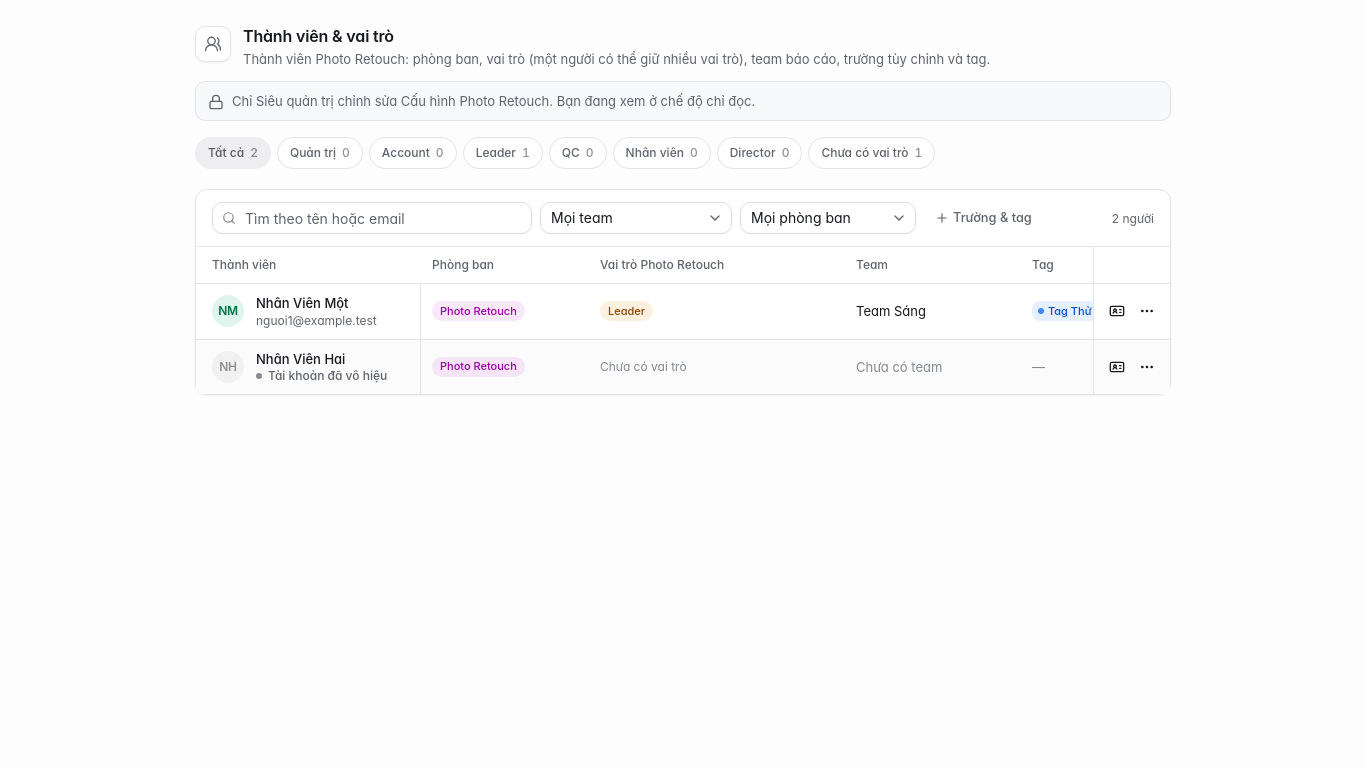
Cấu hình → Thành viên & vai trò (PD-050) › opens the Photo Retouch profile read-only for everyone but the superadmin
Click the button named "Hồ sơ Photo Retouch của Nhân Viên Một" at (1117, 311), box [1103, 297, 1131, 325]
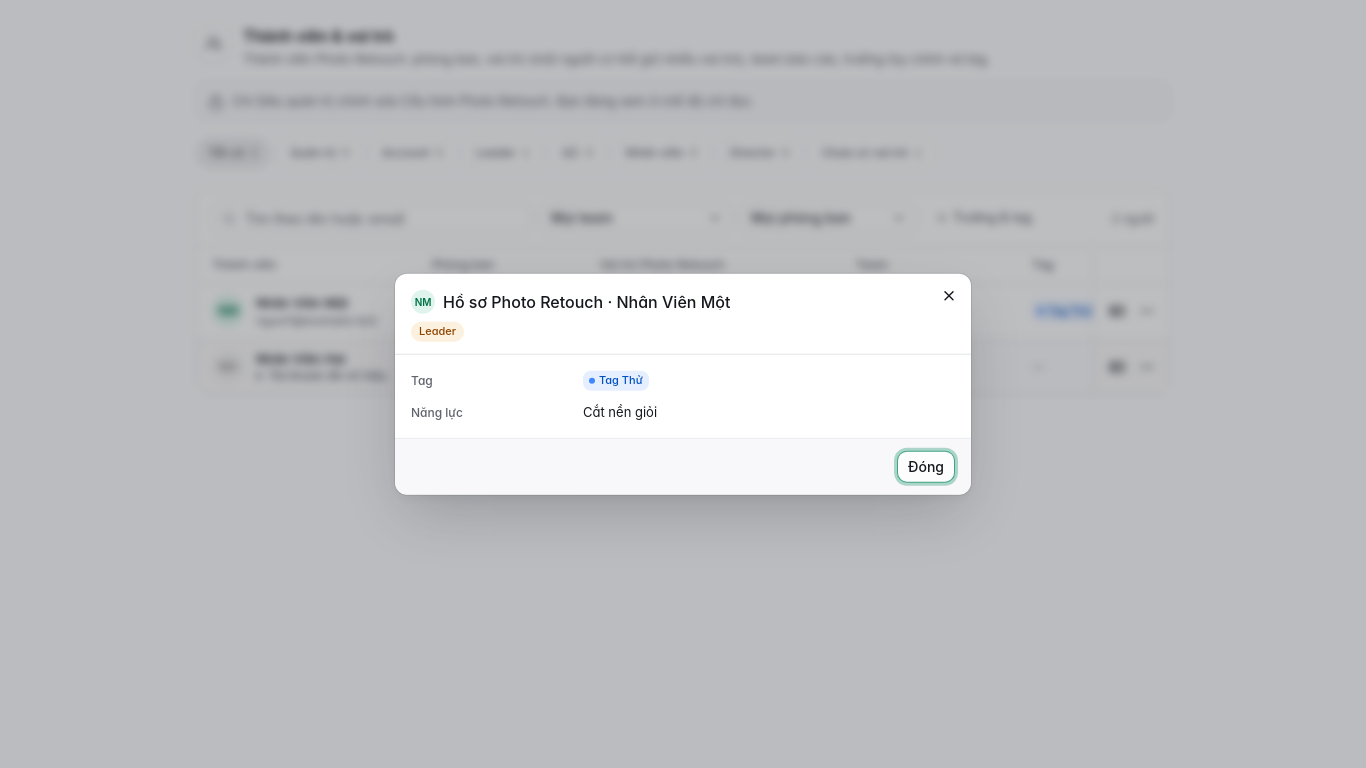
Expected: the text "Năng lực" is shown, [411, 405, 463, 420]
Expected: the text "Cắt nền giỏi" is shown, [583, 403, 657, 421]
Expected: the text "Tag Thử" is shown, [599, 373, 643, 389]
